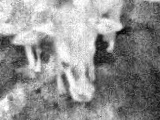eye: (57, 56, 75, 72)
